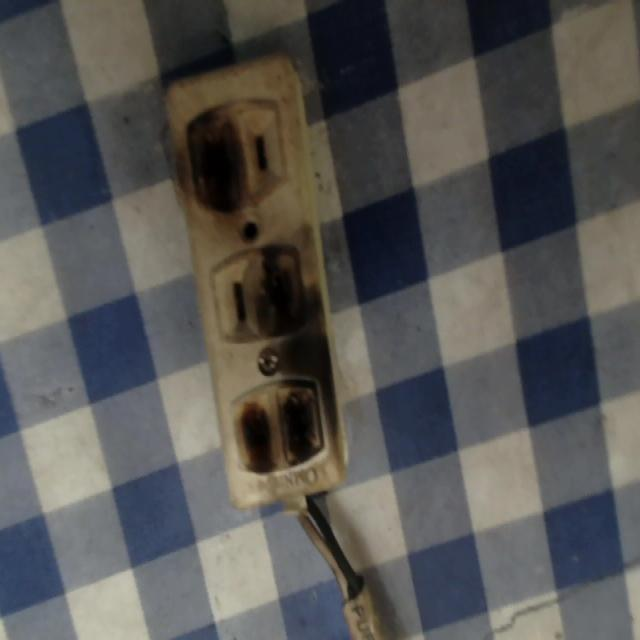-: (228, 374, 328, 482), (178, 101, 256, 222), (254, 236, 320, 341)
